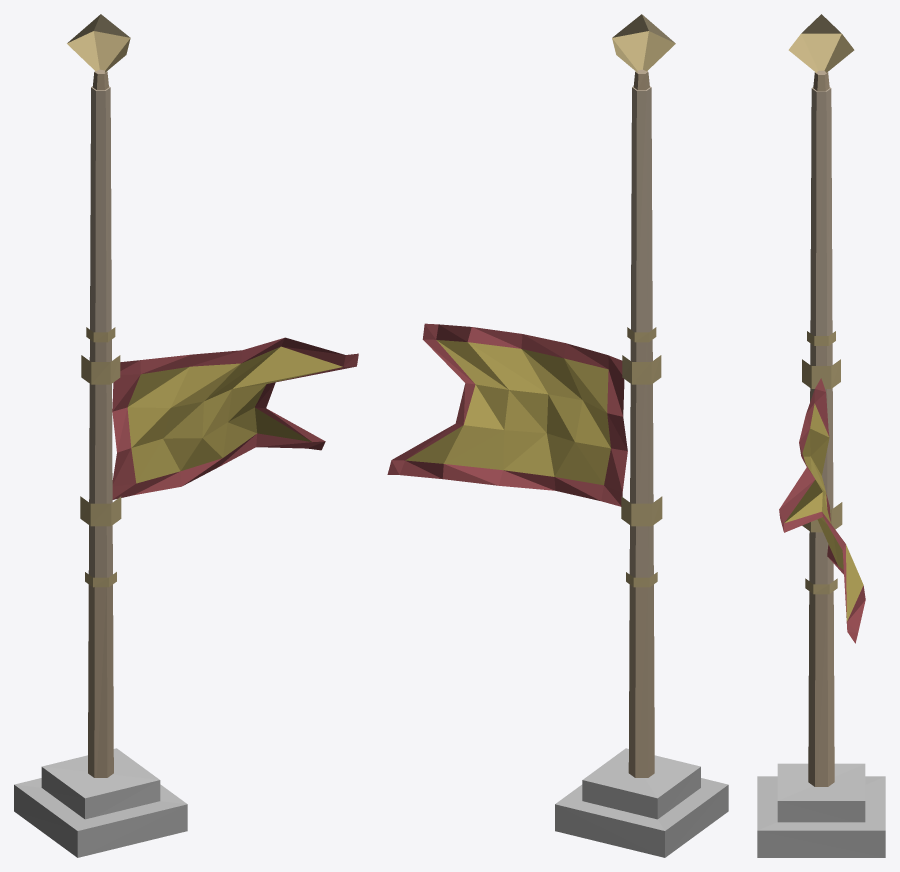
File: flag.swallowtail.jinyan__pole.ground.gaogan__midmast.glb
3 renders of one model, left to right at view 1: azimuth 30°, elevation 25°; view 2: azimuth 150°, elevation 25°; view 3: azimuth 270°, elevation 25°, orthographic.
Visible parts, largest first — view 1: flag.swallowtail.jinyan; view 2: flag.swallowtail.jinyan; view 3: flag.swallowtail.jinyan.
Boxes of the visible parts, x1,y1,x2,y2 form: flag.swallowtail.jinyan: [14, 14, 358, 857]; flag.swallowtail.jinyan: [387, 14, 728, 857]; flag.swallowtail.jinyan: [757, 14, 885, 857].
Bounding box in the file's own units: 2.17 × 5.72 × 0.816.
